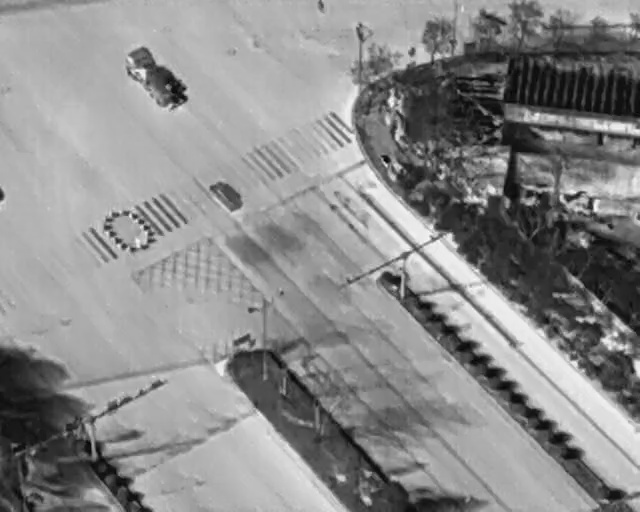Car: (115, 36, 195, 118), (208, 174, 245, 213)
